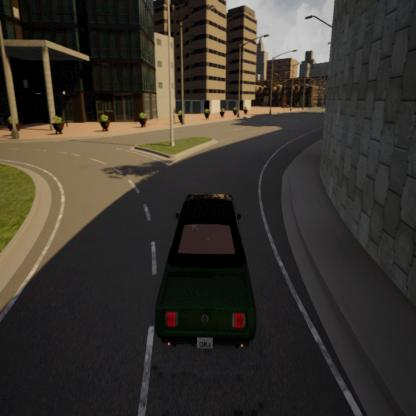Cars: (152, 178, 258, 357)
